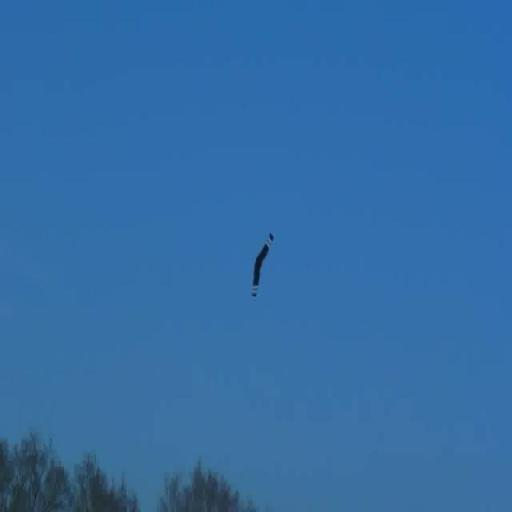uav: (248, 230, 276, 304)
